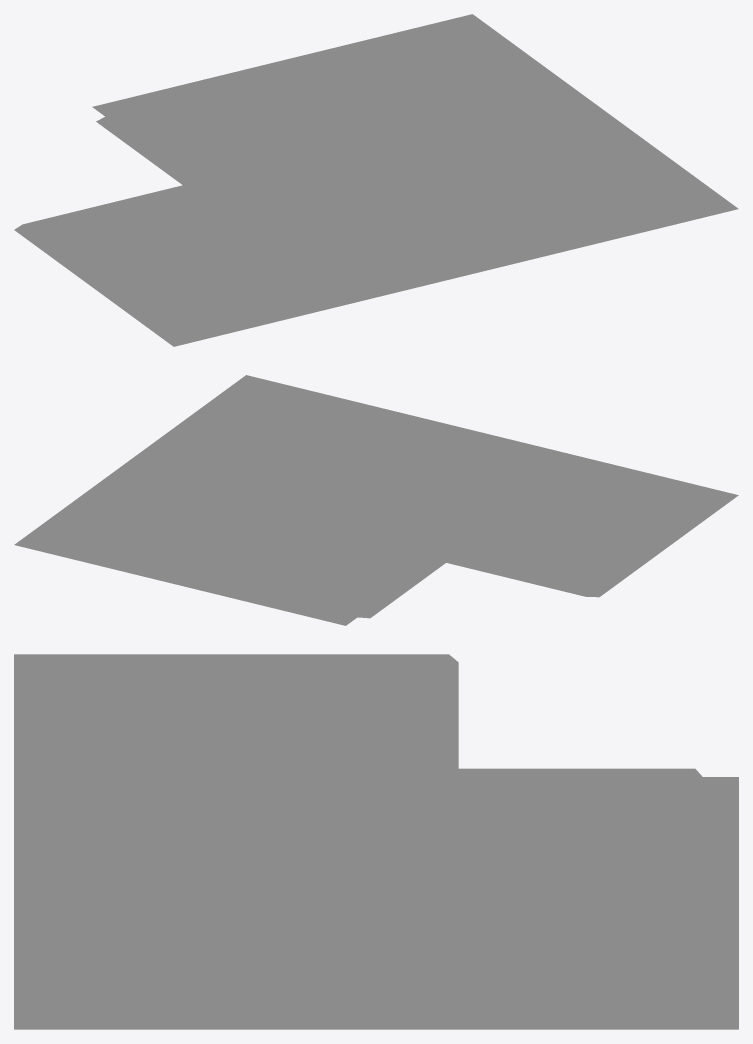
Rendered from Storage_Floor_01_Level_01.fbx.
3 renders of one model, top to bottom at view 1: azimuth 30°, elevation 25°; view 2: azimuth 150°, elevation 25°; view 3: azimuth 270°, elevation 25°, orthographic. The views are drawn at different scales.
Visible parts, largest first — view 1: Storage_Floor_01_Level_01; view 2: Storage_Floor_01_Level_01; view 3: Storage_Floor_01_Level_01.
Boxes of the visible parts, x1,y1,x2,y2 form: Storage_Floor_01_Level_01: [14, 14, 738, 346]; Storage_Floor_01_Level_01: [14, 375, 738, 625]; Storage_Floor_01_Level_01: [14, 654, 738, 1029].
Bounding box in the file's own units: 49 × 5.04e-06 × 40.
